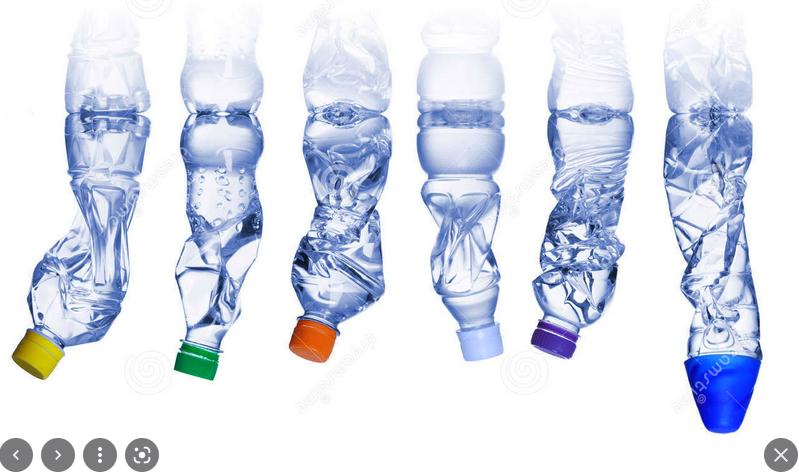Plastic: (6, 97, 156, 393), (662, 107, 772, 437), (526, 103, 643, 383), (169, 100, 270, 407), (287, 94, 393, 385), (408, 105, 512, 377)
